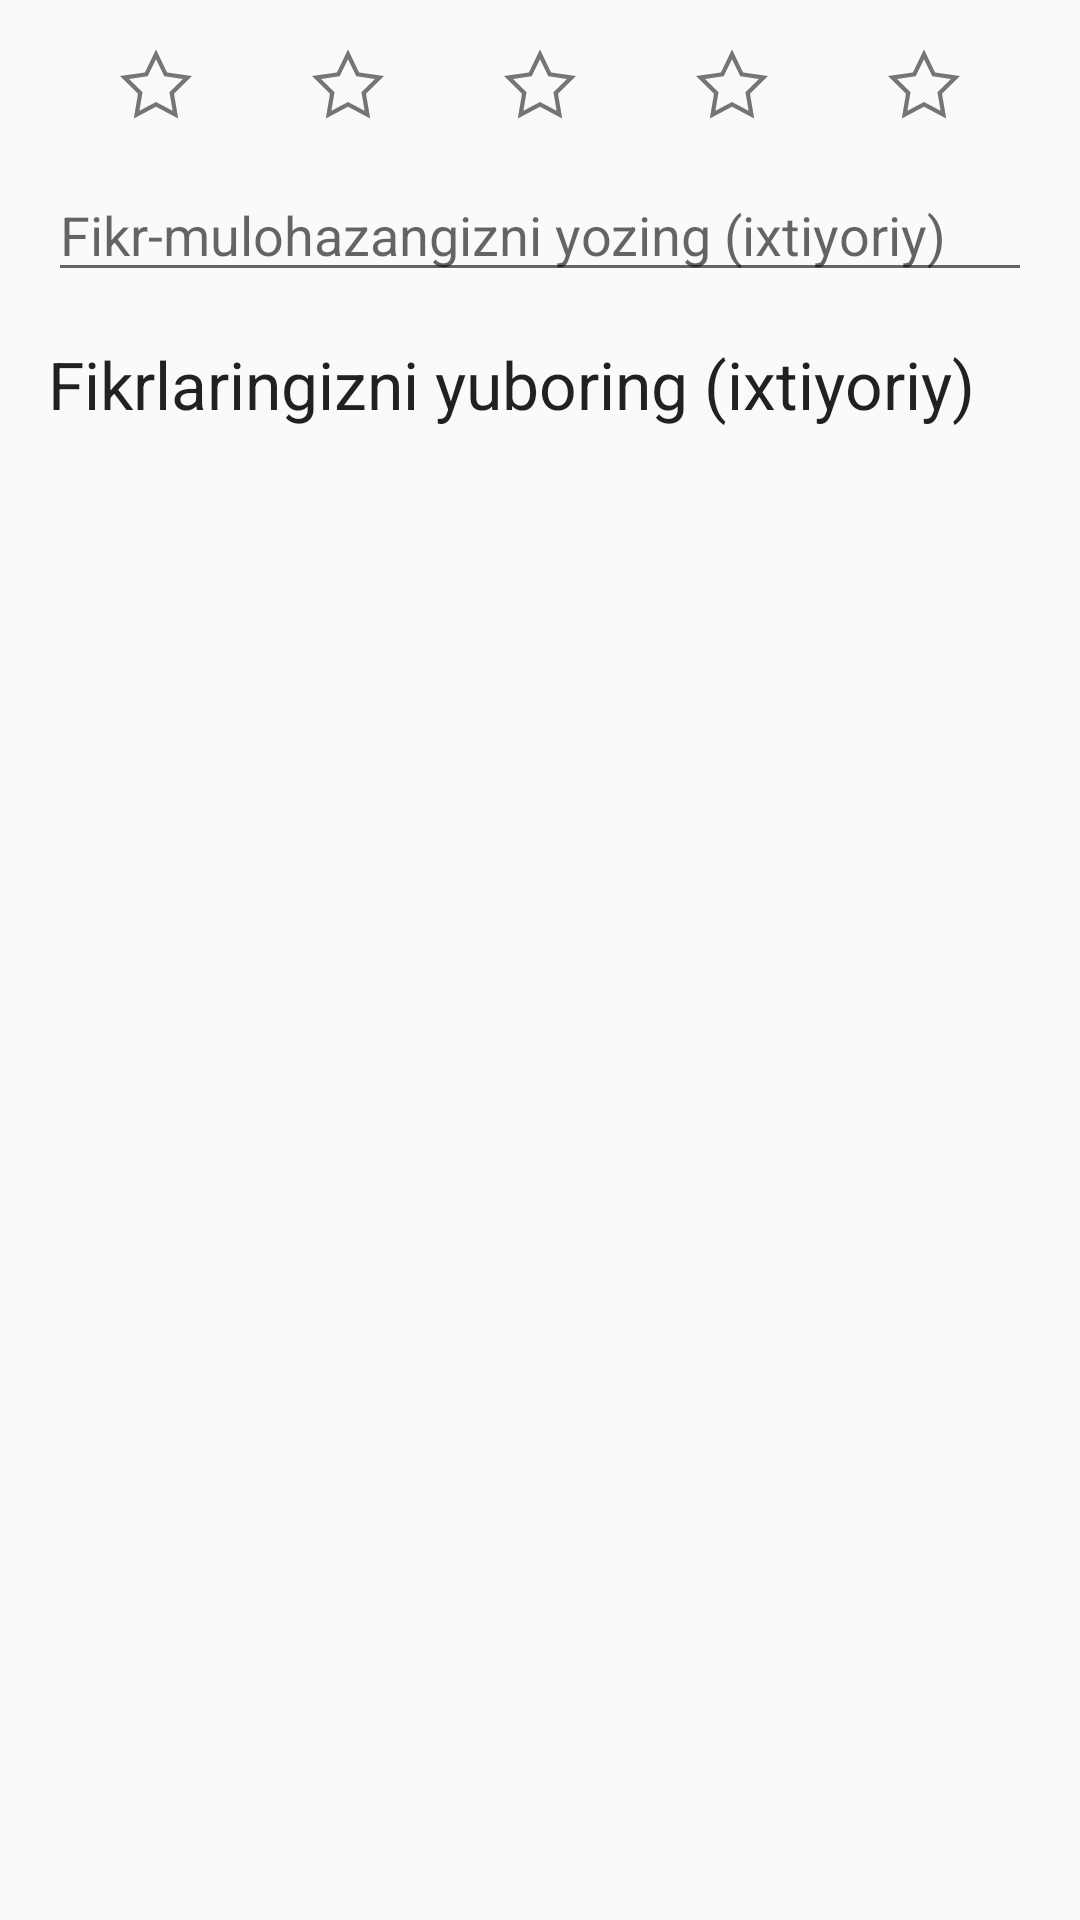

Where to tap for icons on this 1080×1920 app screen, as point (x, y):
star empty: point (156, 84), point (348, 84), point (540, 84), point (732, 84), point (924, 84)
